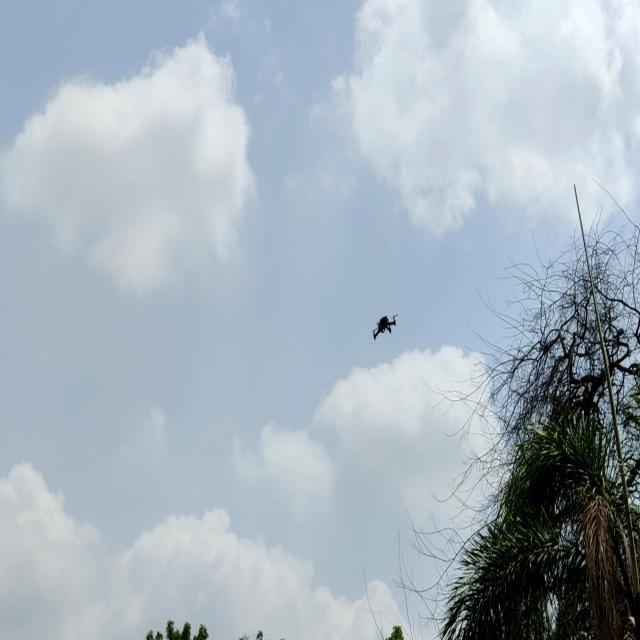drone: (367, 312, 402, 344)
